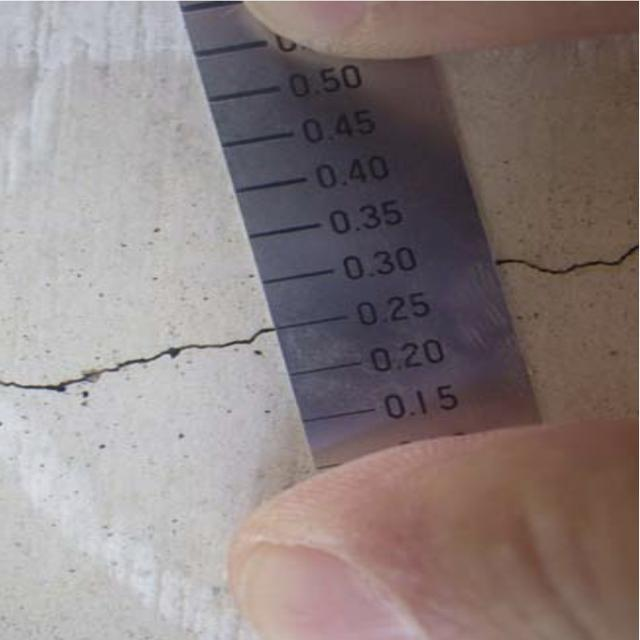crack: (6, 319, 287, 404), (497, 232, 640, 304)
